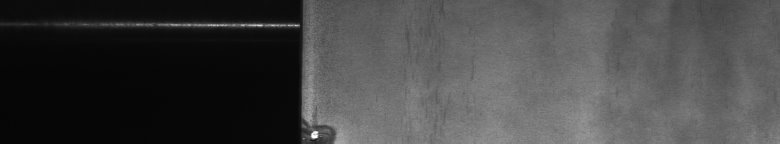hb: (312, 106, 344, 136)
